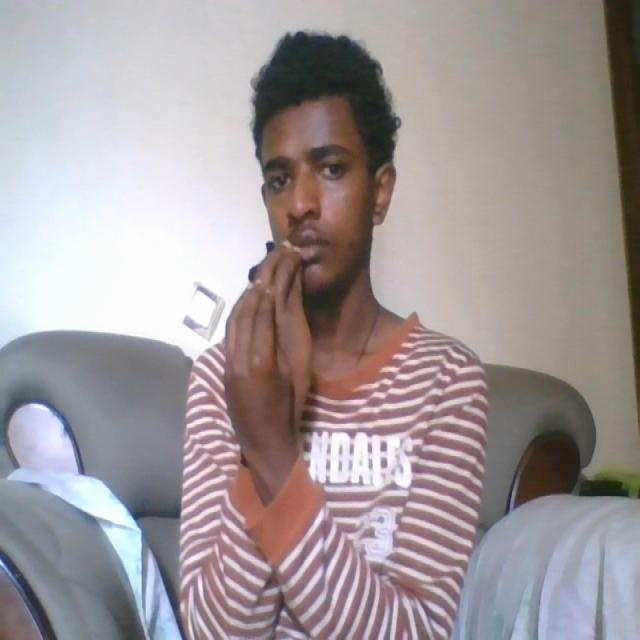migb: (220, 232, 320, 467)
